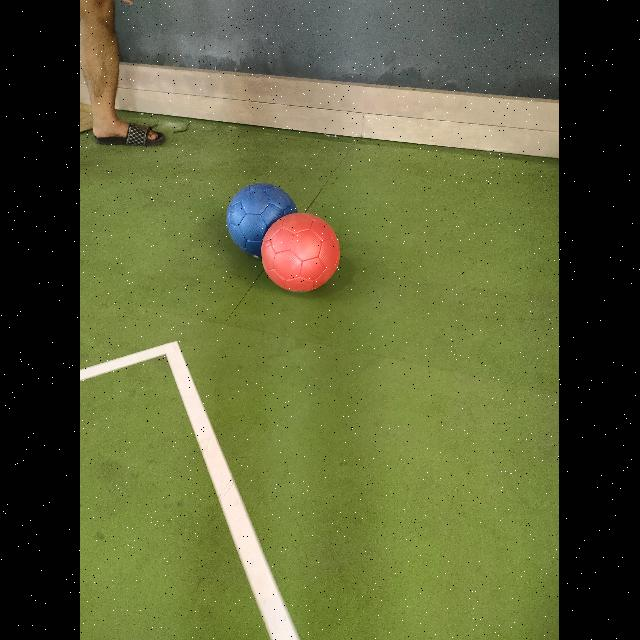B: (227, 183, 298, 256)
R: (262, 213, 341, 292)
